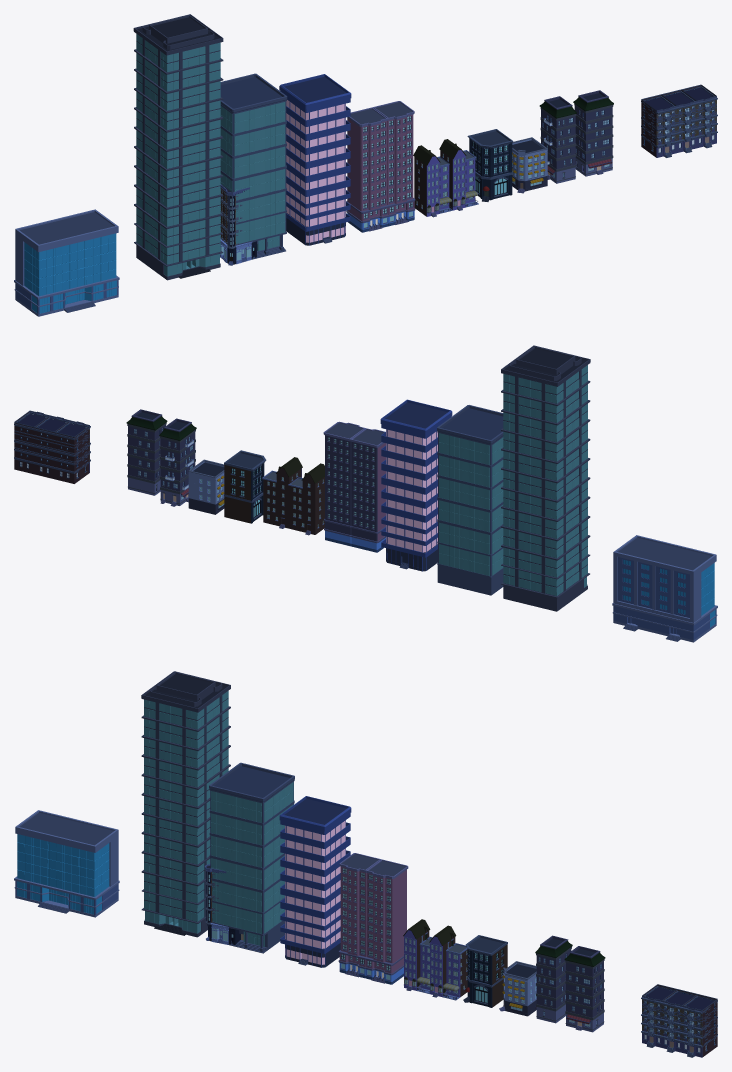
The model's file is BuildingTest.fbx.
3 renders of one model, top to bottom at view 1: azimuth 30°, elevation 25°; view 2: azimuth 150°, elevation 25°; view 3: azimuth 330°, elevation 25°, orthographic.
Parts seen in each view (by area): view 1: skyB-Model, skyC-Model, skyD-Model, skyA-Model, resB-Model, resA-Model, resC-Model, NOcornerC-Model, cornerC-Model, cornerA-Model, cornerB-Model, cornerD-Model; view 2: skyB-Model, skyC-Model, skyA-Model, skyD-Model, resB-Model, resA-Model, resC-Model, NOcornerC-Model, cornerC-Model, cornerA-Model, cornerB-Model; view 3: skyB-Model, skyC-Model, skyD-Model, skyA-Model, resB-Model, resA-Model, resC-Model, NOcornerC-Model, cornerA-Model, cornerC-Model, cornerB-Model, cornerD-Model.
Boxes of the visible parts, x1,y1,x2,y2 form: skyB-Model: [133, 14, 223, 280]; skyC-Model: [220, 73, 287, 259]; skyD-Model: [279, 74, 351, 245]; skyA-Model: [14, 209, 119, 316]; resB-Model: [346, 101, 415, 232]; resA-Model: [641, 84, 717, 157]; resC-Model: [413, 139, 478, 217]; NOcornerC-Model: [573, 90, 613, 176]; cornerC-Model: [539, 96, 576, 183]; cornerA-Model: [467, 129, 513, 201]; cornerB-Model: [512, 137, 547, 193]; cornerD-Model: [220, 184, 256, 265]; skyB-Model: [501, 345, 590, 611]; skyC-Model: [437, 405, 503, 595]; skyA-Model: [612, 535, 717, 642]; skyD-Model: [380, 399, 452, 571]; resB-Model: [323, 421, 385, 552]; resA-Model: [14, 410, 90, 483]; resC-Model: [262, 457, 324, 535]; NOcornerC-Model: [126, 409, 167, 495]; cornerC-Model: [159, 418, 196, 506]; cornerA-Model: [224, 450, 266, 523]; cornerB-Model: [188, 459, 224, 514]; skyB-Model: [141, 671, 230, 937]; skyC-Model: [209, 762, 294, 953]; skyD-Model: [279, 796, 351, 967]; skyA-Model: [14, 810, 119, 917]; resB-Model: [338, 853, 408, 984]; resA-Model: [641, 984, 717, 1057]; resC-Model: [403, 919, 467, 1000]; NOcornerC-Model: [564, 946, 605, 1032]; cornerA-Model: [463, 935, 507, 1007]; cornerC-Model: [535, 935, 572, 1023]; cornerB-Model: [499, 961, 536, 1016]; cornerD-Model: [204, 864, 240, 945].
Size of the model in its own units: 51.16 by 17.23 by 4.56.
